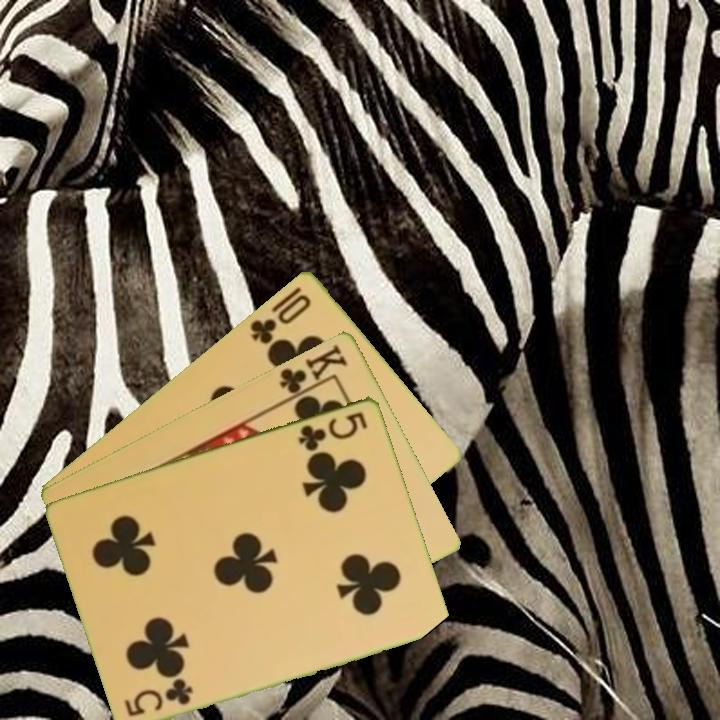10c: (246, 290, 314, 347)
5c: (295, 408, 371, 454), (121, 677, 196, 719)
Kc: (275, 340, 350, 404)
